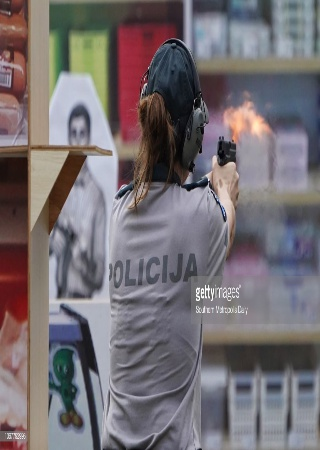handgun: (215, 134, 239, 166)
